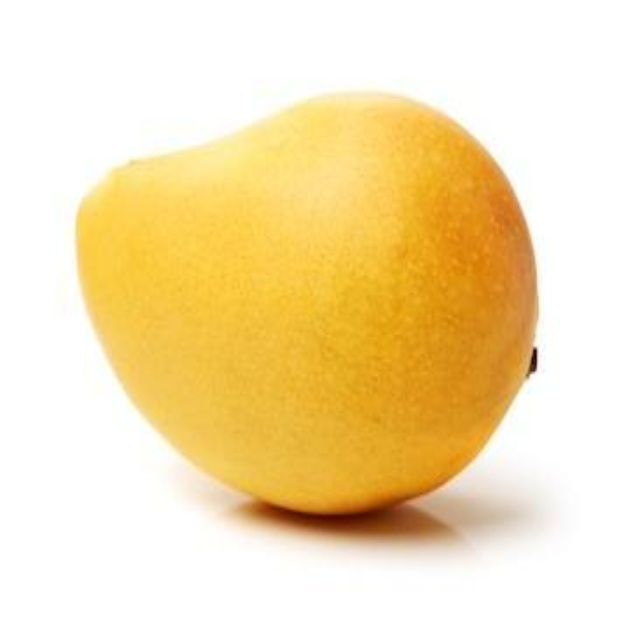mango: (77, 88, 540, 518)
